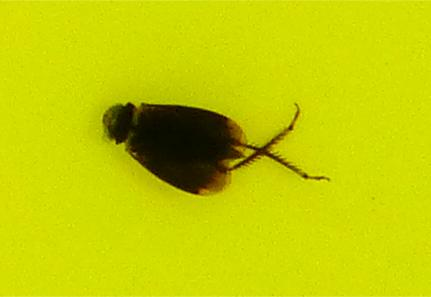Hemiptera: (100, 100, 331, 197)
